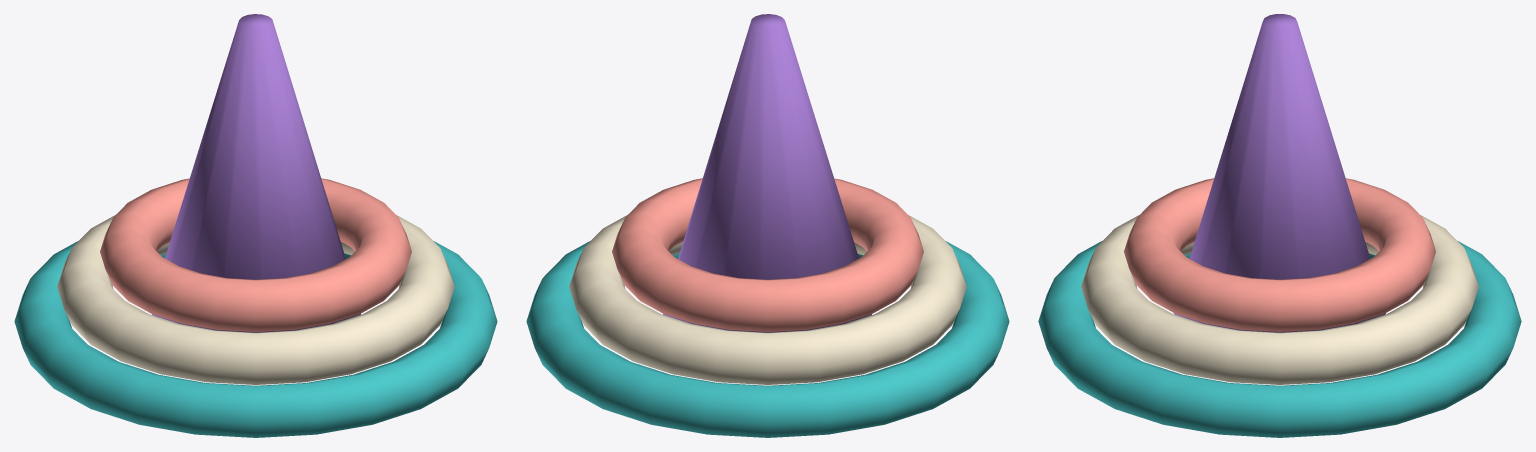
Rendered from r061_dungeon_shell_props_shell_03.glb.
The picture shows the model from 3 angles, left to right: view 1: azimuth 30°, elevation 25°; view 2: azimuth 150°, elevation 25°; view 3: azimuth 270°, elevation 25°; orthographic projection.
Parts seen in each view (by area): view 1: r061_dungeon_shell_props_shell_03.001; view 2: r061_dungeon_shell_props_shell_03.001; view 3: r061_dungeon_shell_props_shell_03.001.
Boxes of the visible parts, x1,y1,x2,y2 form: r061_dungeon_shell_props_shell_03.001: (14, 14, 497, 437); r061_dungeon_shell_props_shell_03.001: (526, 14, 1009, 437); r061_dungeon_shell_props_shell_03.001: (1038, 14, 1521, 437).
Bounding box in the file's own units: 2.26 × 1.68 × 2.26.
